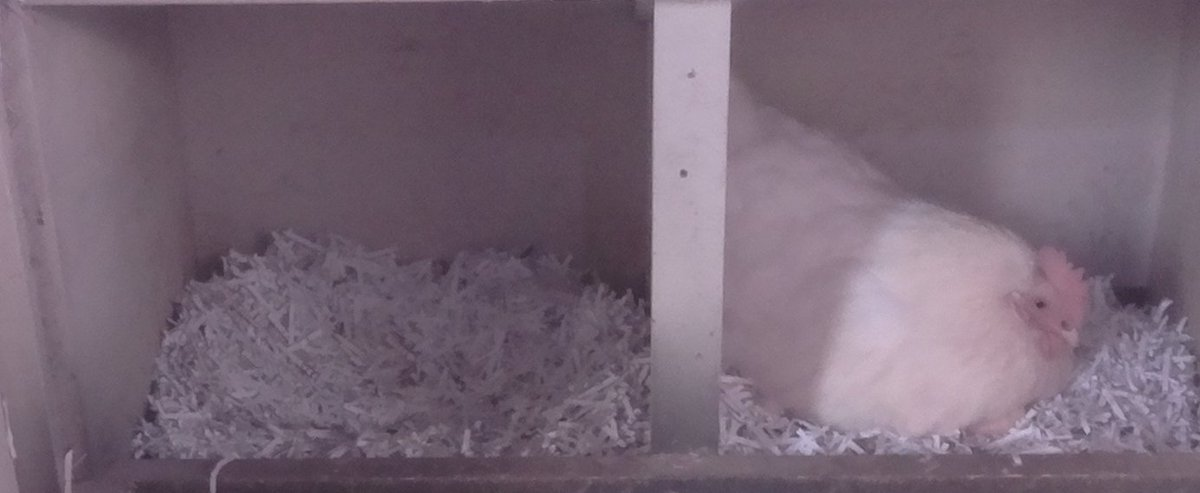hen: (729, 81, 1099, 446)
